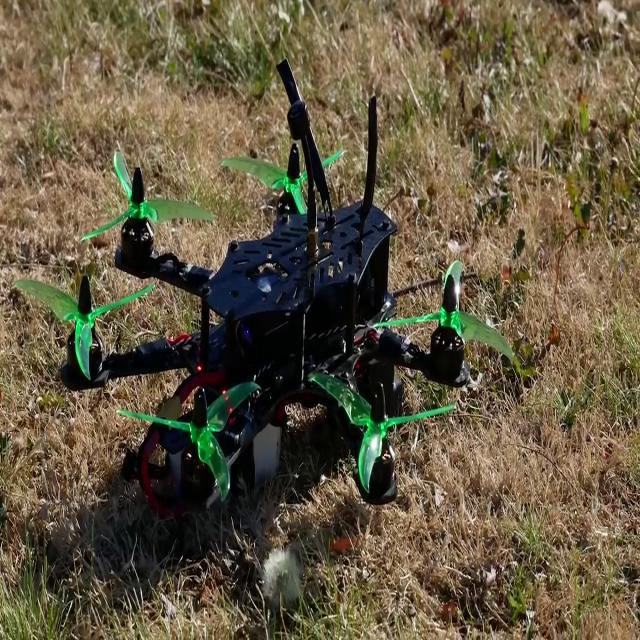drone: (24, 24, 497, 547)
